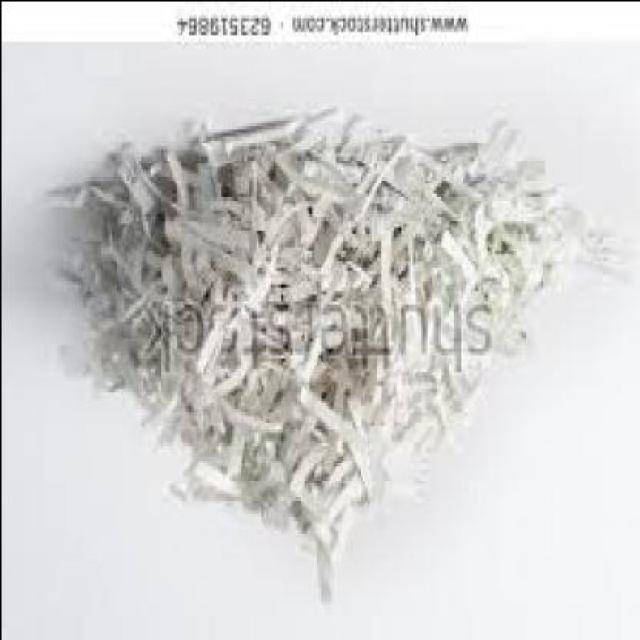PAPER: (51, 111, 620, 606)
